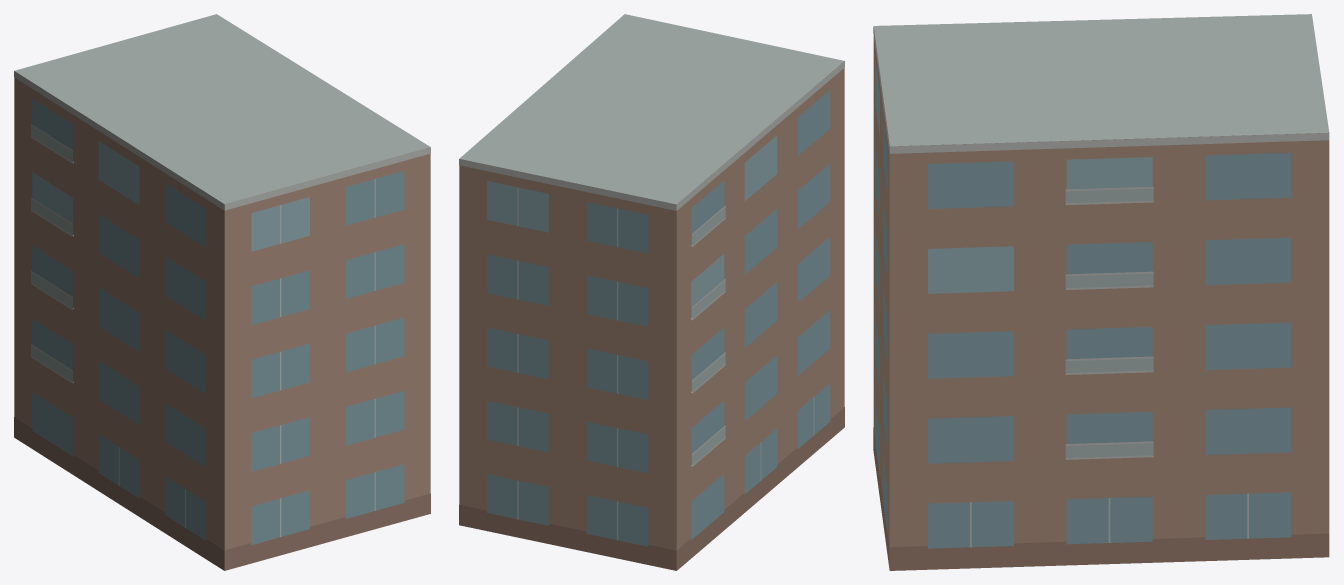
File: survey-upis-32615882.glb
3 renders of one model, left to right at view 1: azimuth 30°, elevation 25°; view 2: azimuth 150°, elevation 25°; view 3: azimuth 270°, elevation 25°, orthographic. The views are drawn at different scales.
Parts seen in each view (by area): view 1: survey-upis-32615882.tmp; view 2: survey-upis-32615882.tmp; view 3: survey-upis-32615882.tmp.
Part boxes in pixels (x1,y1,x2,y2): survey-upis-32615882.tmp: (14,14,430,570); survey-upis-32615882.tmp: (459,14,844,570); survey-upis-32615882.tmp: (873,14,1329,570).
Size of the model in its own units: 9.27 by 13.85 by 13.49.
